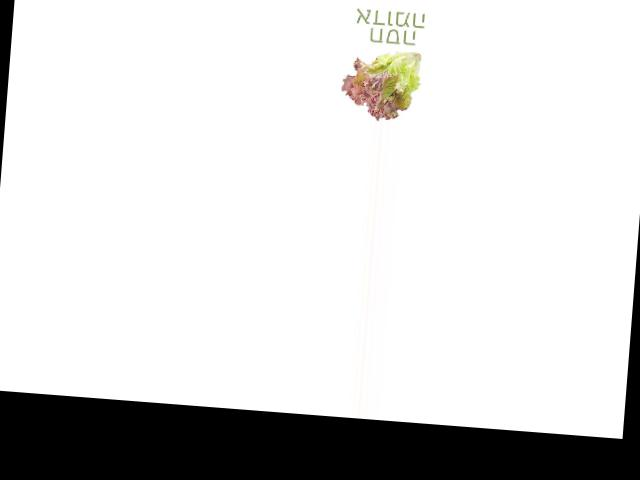lettuce: (337, 44, 430, 124)
